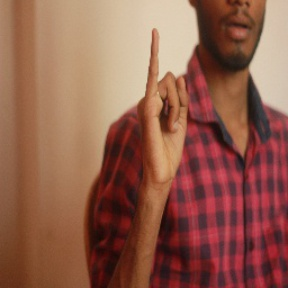I: (135, 25, 193, 173)
